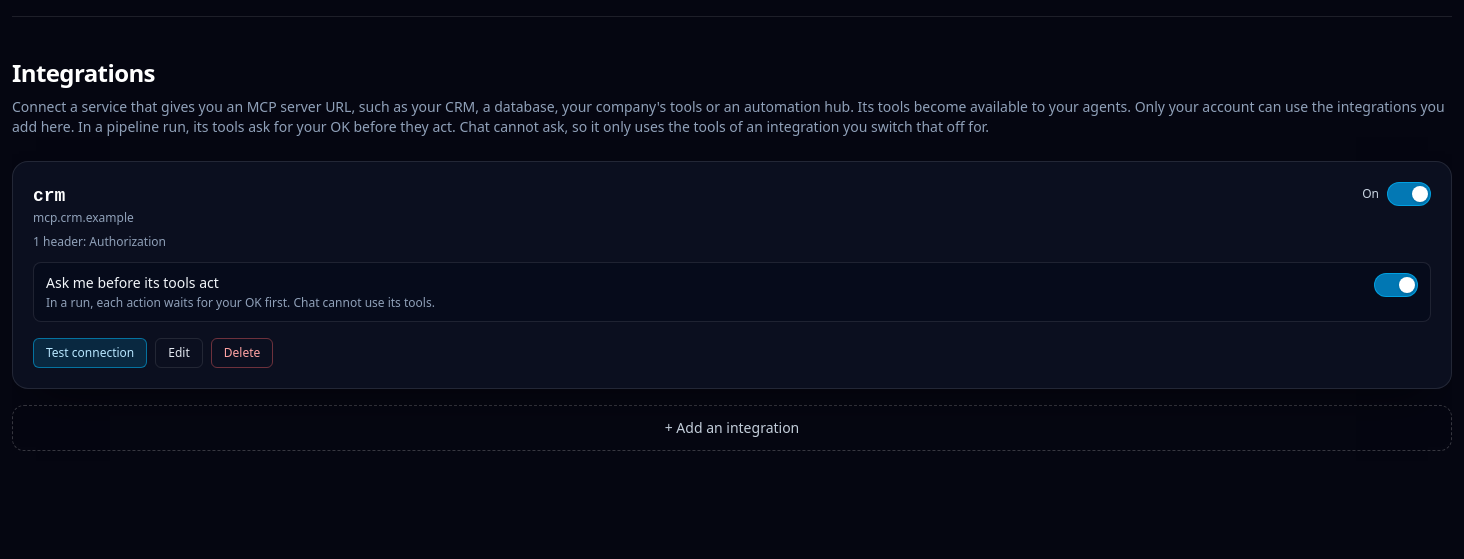
Test: IntegrationsSection › tests a connection and shows the tools it found
The width and height of the screenshot is (1464, 559).
Click the button "Test connection" at coordinates (90, 353), box x1=33 y1=338 x2=147 y2=368
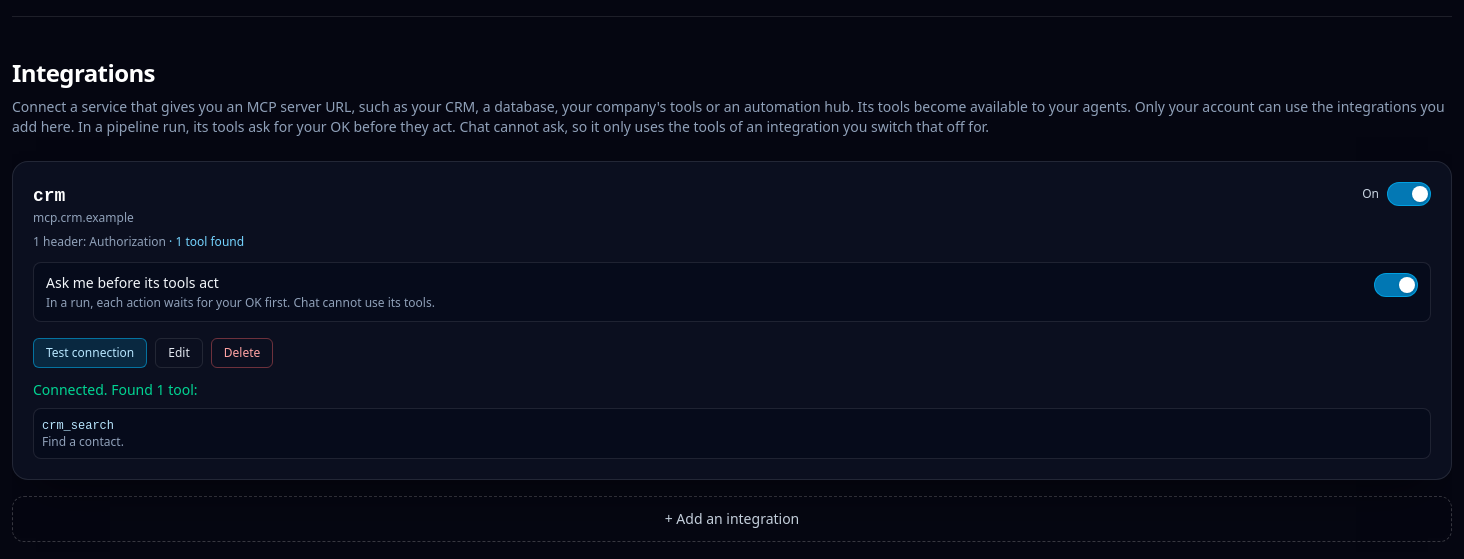
Expected: the text "Connected. Found 1 tool:" is shown, x1=33 y1=380 x2=198 y2=399
Expected: the text "crm_search" is shown, x1=42 y1=419 x2=114 y2=433
Expected: the text "· 1 tool found" is shown, x1=166 y1=233 x2=244 y2=250
